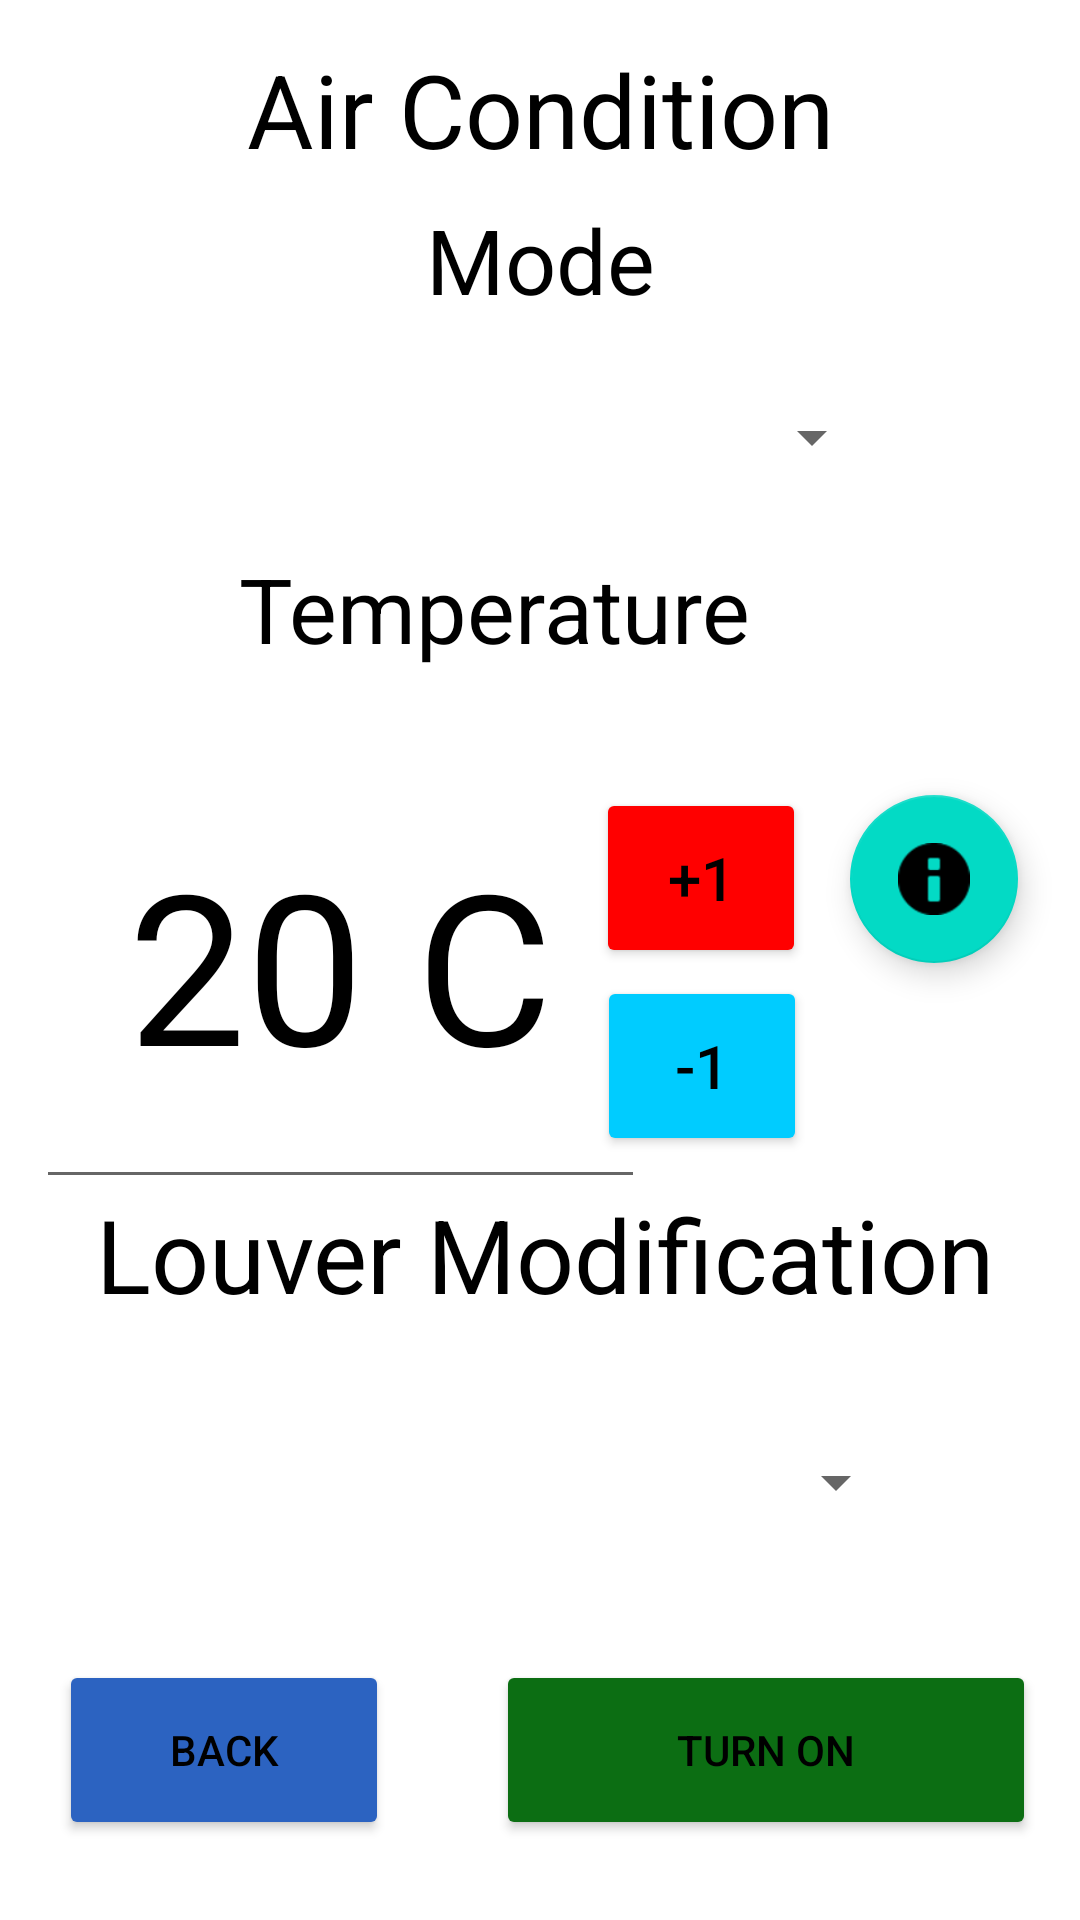

Point at icon controls on the screen. Image size 1080x1920, points as [x,y].
info: [934,879]
